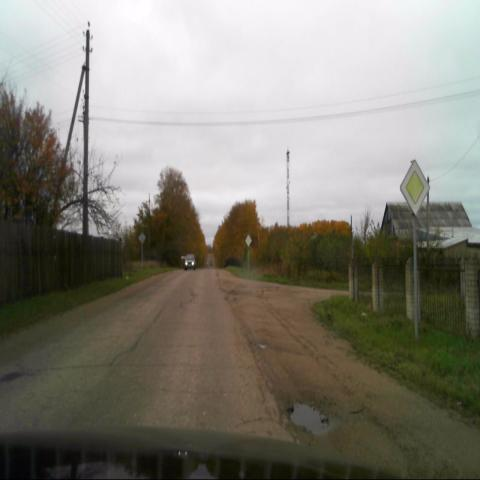2_1: (399, 160, 430, 216)
